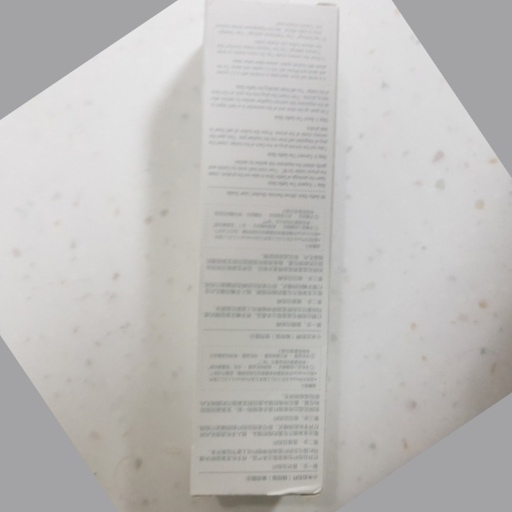Paper_0: (188, 1, 349, 499)
